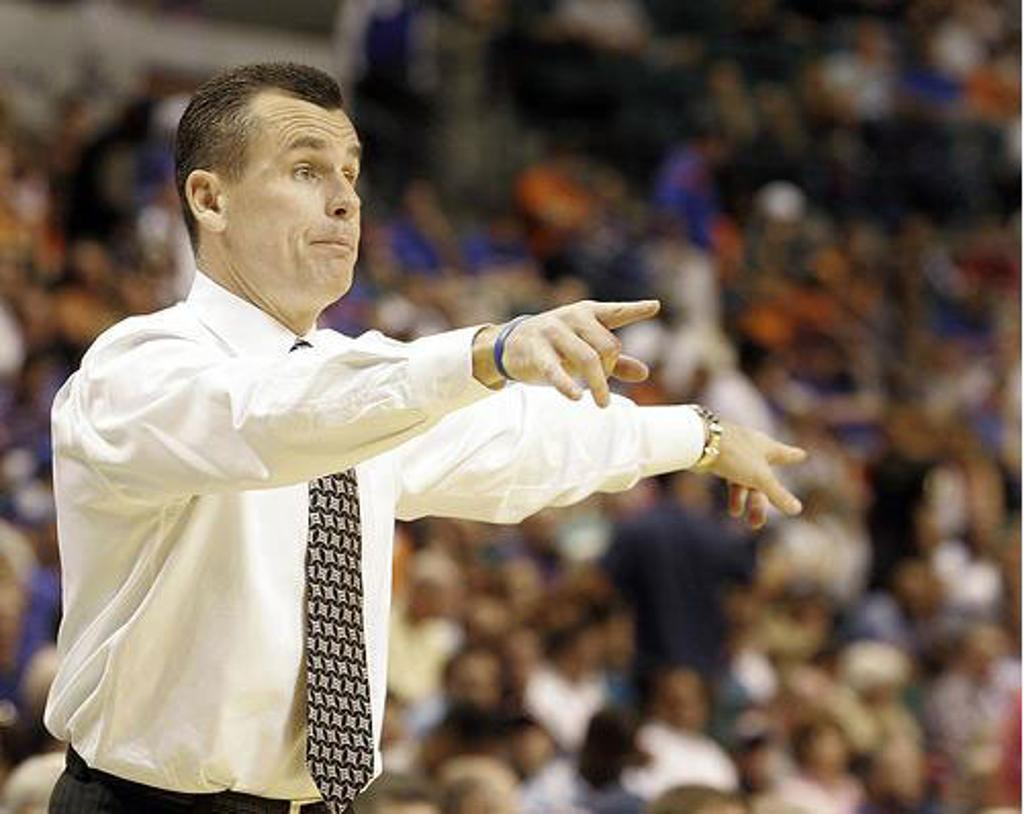face: (220, 74, 366, 298)
